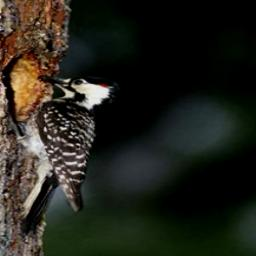Woodpecker: (0, 73, 127, 237)
